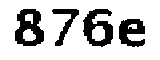6: (83, 6, 115, 54)
7: (49, 6, 80, 56)
8: (12, 6, 45, 49)
e: (117, 17, 147, 49)
